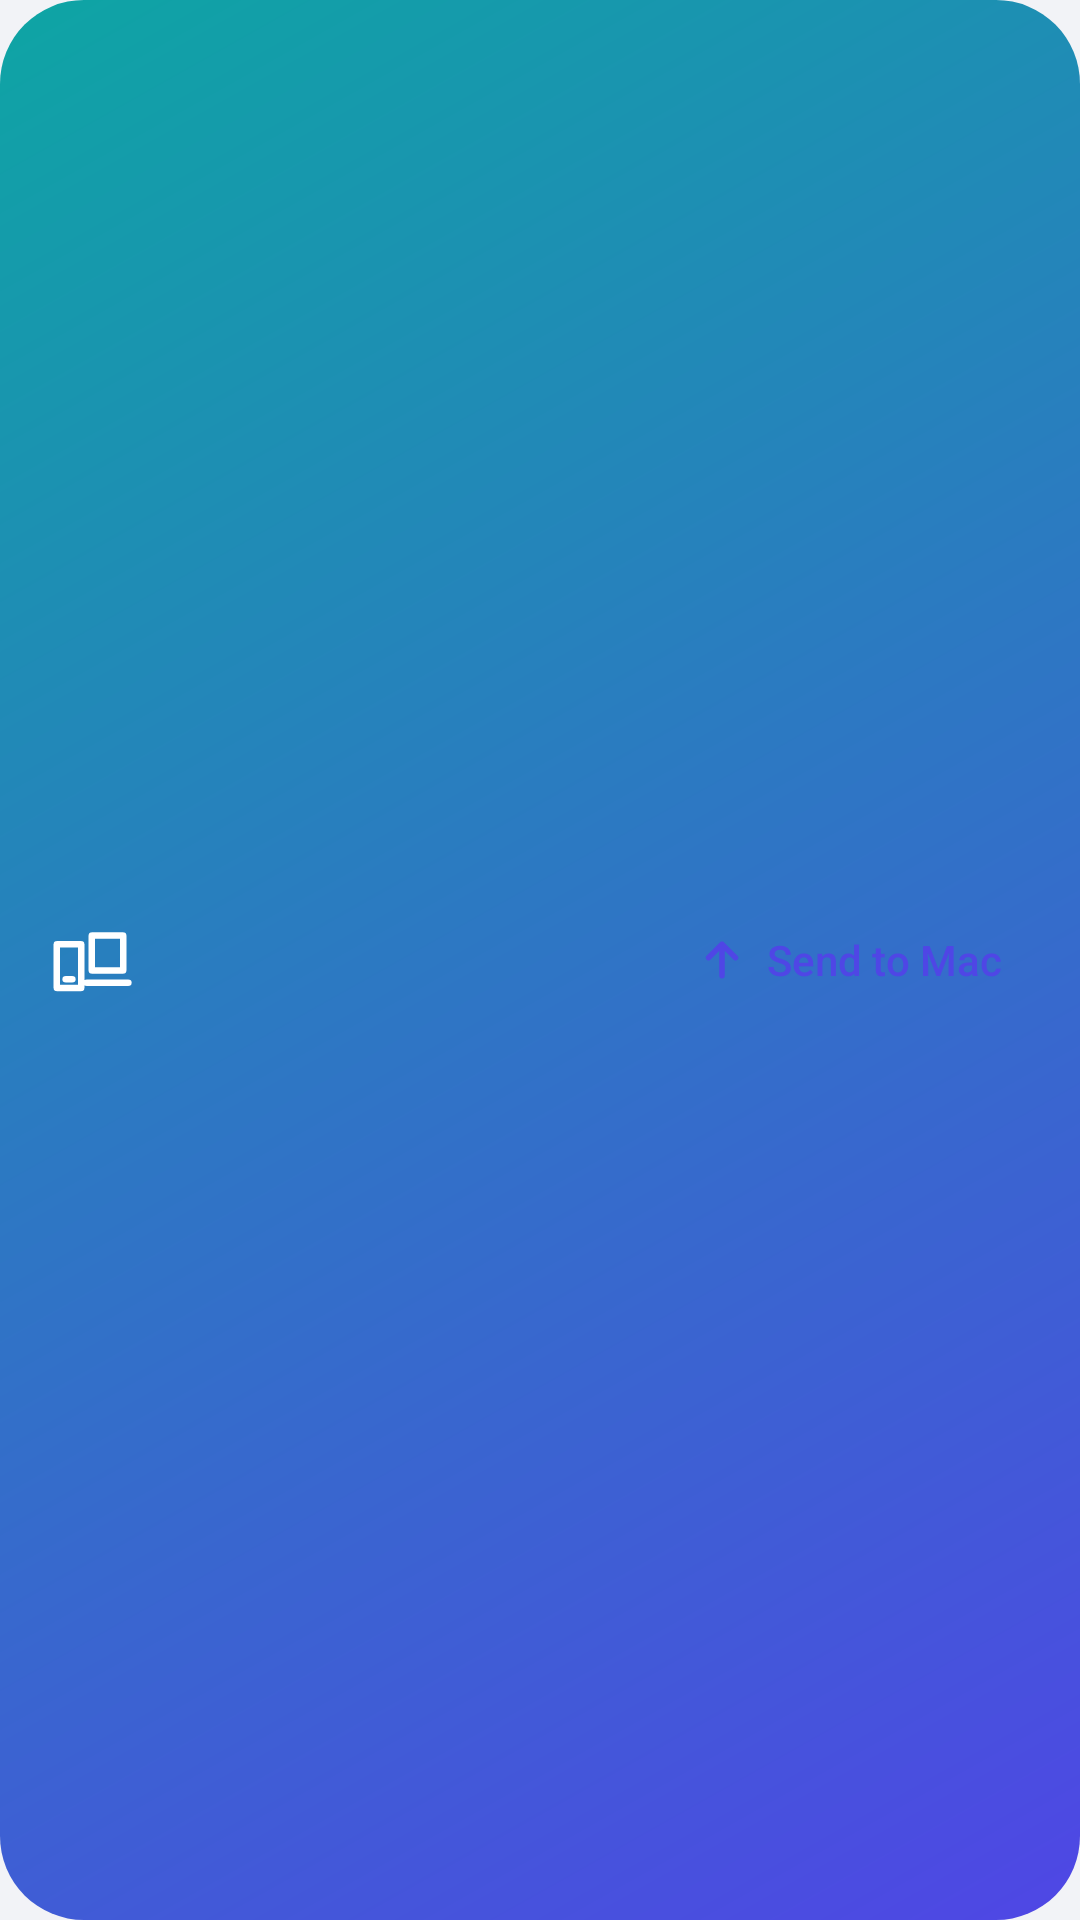

Icon click points for this 1080×1920 phone screenshot, format point (x, y):
devices: point (92, 962)
